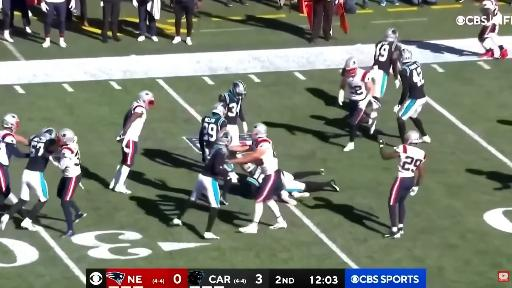Helmet: (58, 128, 76, 145), (344, 57, 358, 77), (3, 114, 19, 131), (231, 80, 246, 98), (216, 130, 232, 146), (139, 91, 154, 108), (252, 123, 267, 138), (405, 131, 421, 144), (212, 103, 226, 117), (385, 28, 398, 42), (401, 48, 412, 63), (241, 162, 255, 173), (41, 128, 56, 138)
Jersey: (26, 134, 56, 172), (399, 62, 426, 104), (199, 114, 227, 153), (395, 145, 426, 177), (374, 40, 400, 76), (123, 101, 146, 141), (202, 145, 229, 179), (254, 138, 278, 174), (219, 91, 244, 125), (346, 68, 371, 101), (60, 143, 81, 177), (0, 130, 16, 166), (482, 0, 501, 25), (247, 166, 264, 183)
Player: (173, 131, 237, 239), (228, 123, 286, 233), (8, 128, 58, 230), (379, 131, 425, 238), (110, 91, 154, 194), (198, 102, 232, 205), (339, 57, 376, 151), (394, 49, 430, 142), (57, 128, 84, 237), (0, 114, 29, 204), (371, 28, 400, 118), (276, 171, 339, 205), (219, 81, 247, 145), (478, 0, 507, 59), (199, 103, 227, 162)
